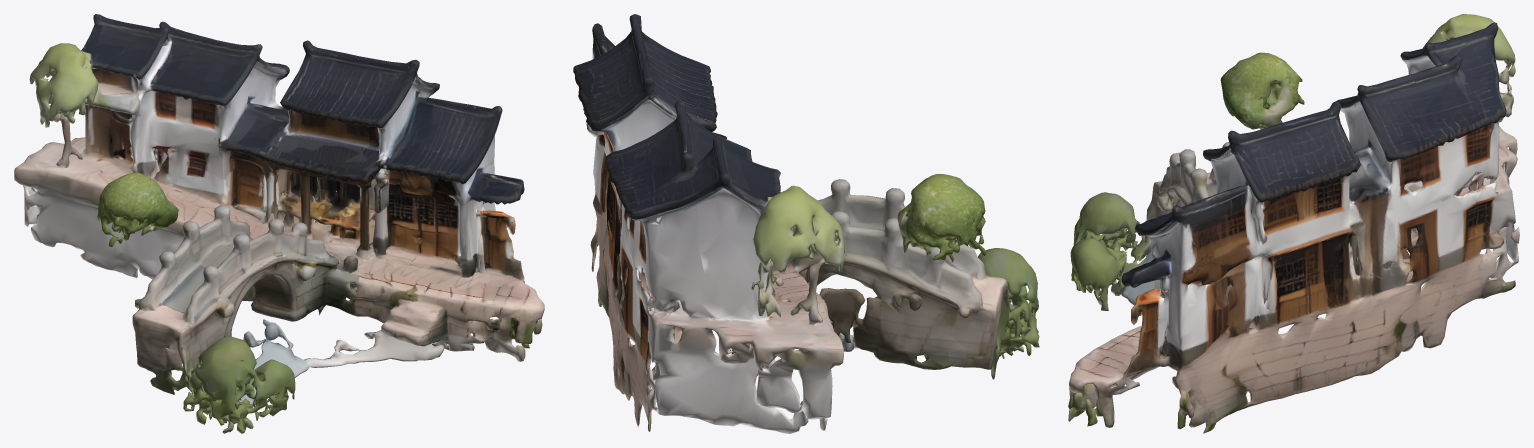
3 views of the same model, side by side, from view 1: azimuth 30°, elevation 25°; view 2: azimuth 150°, elevation 25°; view 3: azimuth 270°, elevation 25° (orthographic). The views are drawn at different scales.
Parts seen in each view (by area): view 1: material.001; view 2: material.001; view 3: material.001.
Part boxes in pixels (x1,y1,x2,y2): material.001: (14, 14, 544, 433); material.001: (573, 14, 1039, 433); material.001: (1068, 14, 1519, 433).
Bounding box in the file's own units: 0.8176 × 0.5922 × 0.8211.
Materials: 1 (1 with a texture image).
